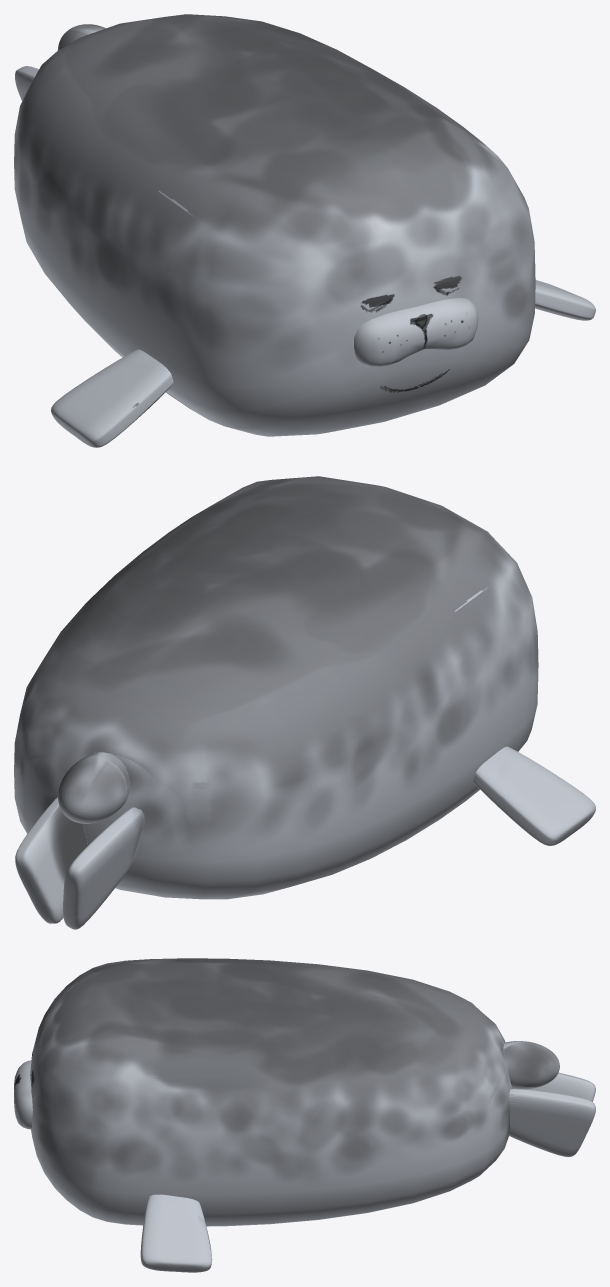
The model's file is NyamNyam.fbx.
The picture shows the model from 3 angles, top to bottom: view 1: azimuth 30°, elevation 25°; view 2: azimuth 150°, elevation 25°; view 3: azimuth 270°, elevation 25°; orthographic projection. The views are drawn at different scales.
Parts seen in each view (by area): view 1: NyamNyam; view 2: NyamNyam; view 3: NyamNyam.
Boxes of the visible parts, left/top/right/bottom form: NyamNyam: left=14, top=14, right=595, bottom=447; NyamNyam: left=14, top=476, right=595, bottom=929; NyamNyam: left=14, top=958, right=595, bottom=1272.
Bounding box in the file's own units: 137 × 70.97 × 178.
